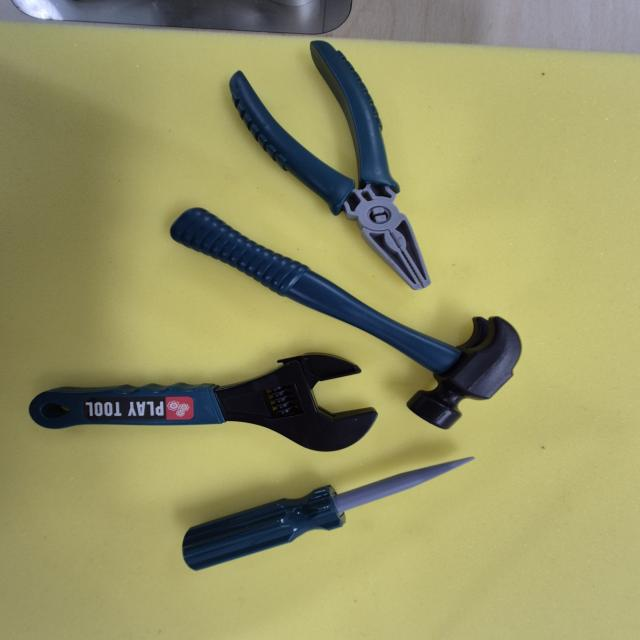hammer: (149, 202, 542, 438)
pliers: (206, 32, 462, 303)
screwdriver: (177, 454, 500, 578)
wrench: (6, 346, 389, 458)
